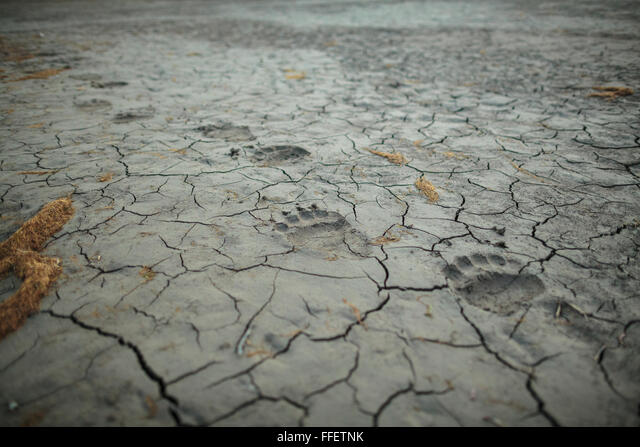bear: (440, 241, 563, 325), (258, 197, 385, 273), (236, 142, 317, 172)
